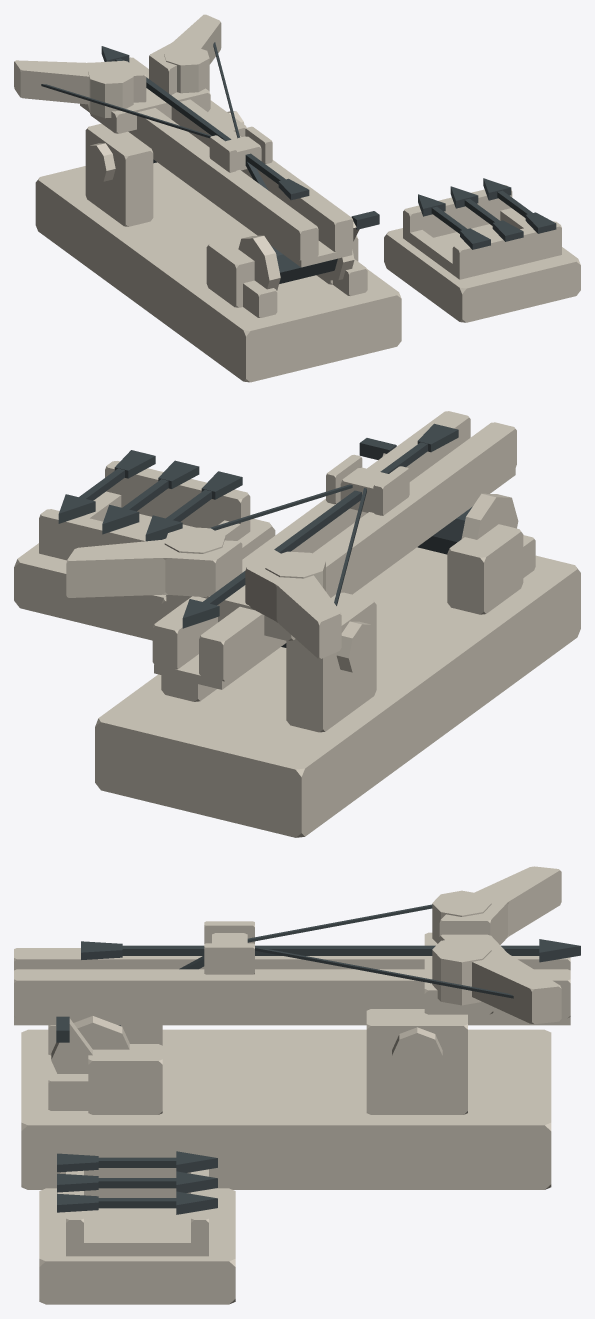
File: great_ballista_c.glb
The picture shows the model from 3 angles, top to bottom: view 1: azimuth 30°, elevation 25°; view 2: azimuth 150°, elevation 25°; view 3: azimuth 270°, elevation 25°; orthographic projection. The views are drawn at different scales.
Visible parts, largest first — view 1: BWAR_GB_C_Chassis, BWAR_GB_C_RackFoot, BWAR_GB_C_OpenTrack-1, BWAR_GB_C_Support-1, BWAR_GB_C_OpenTrack1, BWAR_GB_C_BowLimb-1, BWAR_GB_C_RackCradle-1.21, BWAR_GB_C_RearSupport-1, BWAR_GB_C_BowLimb1, BWAR_GB_C_RackCradle-0.79, BWAR_GB_C_LimbSocket-1, BWAR_GB_C_BowSaddle (+14 smaller); view 2: BWAR_GB_C_Chassis, BWAR_GB_C_OpenTrack-1, BWAR_GB_C_BowLimb1, BWAR_GB_C_RackFoot, BWAR_GB_C_Support-1, BWAR_GB_C_OpenTrack1, BWAR_GB_C_BowLimb-1, BWAR_GB_C_RearSupport-1, BWAR_GB_C_RackCradle-1.21, BWAR_GB_C_RackCradle-0.79, BWAR_GB_C_ChannelBed, BWAR_GB_C_ReadyBolt_shaft (+24 smaller); view 3: BWAR_GB_C_Chassis, BWAR_GB_C_OpenTrack1, BWAR_GB_C_RackFoot, BWAR_GB_C_Support1, BWAR_GB_C_OpenTrack-1, BWAR_GB_C_RearSupport1, BWAR_GB_C_BowLimb-1, BWAR_GB_C_BowLimb1, BWAR_GB_C_ReadyBolt_shaft, BWAR_GB_C_ChannelBed, BWAR_GB_C_LimbSocket1, BWAR_GB_C_RackSide1.22 (+25 smaller).
Boxes of the visible parts, x1,y1,x2,y2 form: BWAR_GB_C_Chassis: (35, 162, 401, 382); BWAR_GB_C_RackFoot: (384, 224, 580, 322); BWAR_GB_C_OpenTrack-1: (85, 104, 318, 260); BWAR_GB_C_Support-1: (85, 123, 153, 226); BWAR_GB_C_OpenTrack1: (129, 57, 353, 252); BWAR_GB_C_BowLimb-1: (14, 60, 146, 104); BWAR_GB_C_RackCradle-1.21: (452, 221, 561, 279); BWAR_GB_C_RearSupport-1: (206, 238, 254, 307); BWAR_GB_C_BowLimb1: (149, 14, 221, 95); BWAR_GB_C_RackCradle-0.79: (403, 185, 512, 242); BWAR_GB_C_LimbSocket-1: (88, 64, 133, 118); BWAR_GB_C_BowSaddle: (89, 88, 210, 133); BWAR_GB_C_Chassis: (95, 547, 580, 837); BWAR_GB_C_OpenTrack-1: (199, 422, 516, 681); BWAR_GB_C_BowLimb1: (66, 539, 242, 597); BWAR_GB_C_RackFoot: (14, 514, 275, 640); BWAR_GB_C_Support-1: (286, 592, 376, 732); BWAR_GB_C_OpenTrack1: (152, 411, 470, 669); BWAR_GB_C_BowLimb-1: (245, 549, 341, 658); BWAR_GB_C_RearSupport-1: (447, 524, 523, 614); BWAR_GB_C_RackCradle-1.21: (105, 461, 250, 537); BWAR_GB_C_RackCradle-0.79: (39, 509, 166, 560); BWAR_GB_C_ChannelBed: (154, 468, 515, 689); BWAR_GB_C_ReadyBolt_shaft: (203, 442, 427, 605); BWAR_GB_C_Chassis: (21, 1029, 551, 1189); BWAR_GB_C_OpenTrack1: (14, 969, 570, 1018); BWAR_GB_C_RackFoot: (39, 1188, 235, 1304); BWAR_GB_C_Support1: (366, 1009, 467, 1114); BWAR_GB_C_OpenTrack-1: (14, 948, 570, 970); BWAR_GB_C_RearSupport1: (88, 1044, 162, 1114); BWAR_GB_C_BowLimb-1: (439, 866, 561, 944); BWAR_GB_C_BowLimb1: (439, 934, 561, 1024); BWAR_GB_C_ReadyBolt_shaft: (122, 945, 539, 955); BWAR_GB_C_ChannelBed: (14, 1016, 570, 1025); BWAR_GB_C_LimbSocket1: (432, 937, 491, 1005); BWAR_GB_C_RackSide1.22: (72, 1235, 202, 1256).
Size of the model in its own units: 1.78 by 0.8 by 1.9.
